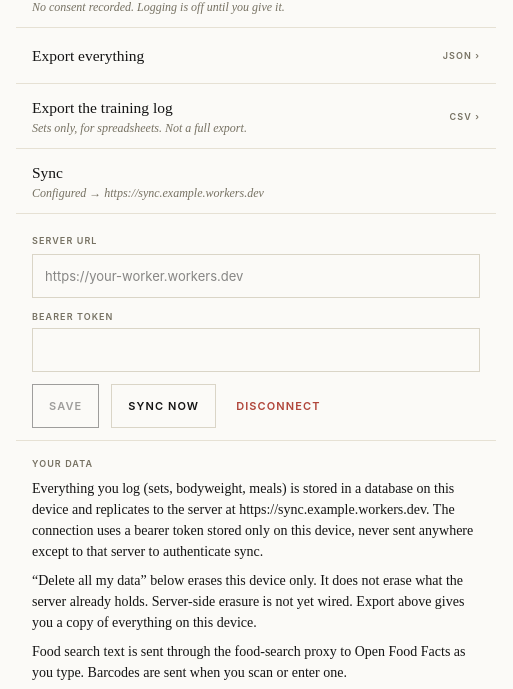
Test: Settings sync section › Disconnect clears the config, re-arms auto-sync, and returns to the on-device notice
(page scrolled)
Expected: the button with test id "sync-now-button" is shown, x1=111 y1=384 x2=216 y2=428
Expected: the text with test id "sync-status" shows "https://sync.example.workers.dev", x1=32 y1=186 x2=264 y2=200
Click the button with test id "sync-disconnect-button": (278, 406) x1=228 y1=384 x2=329 y2=428
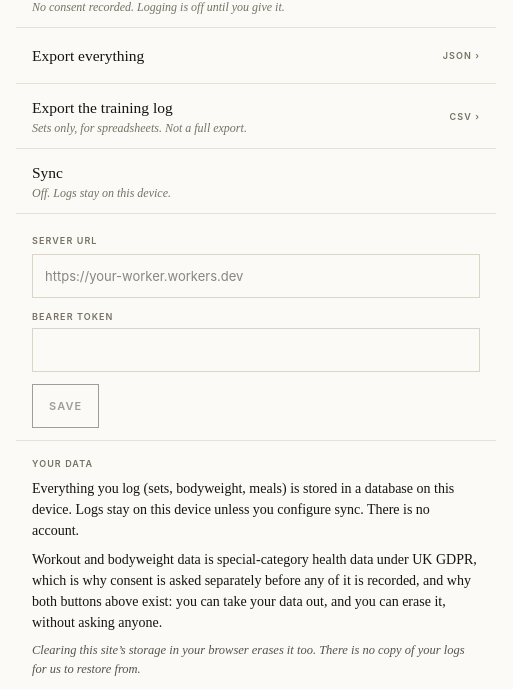
Expected: the text with test id "sync-status" shows "Off", x1=32 y1=186 x2=171 y2=200
Expected: the element with test id "privacy-notice" shows "logs stay on this device unless you configure sync", x1=32 y1=482 x2=454 y2=538
Expected: the button with test id "sync-now-button" is gone
